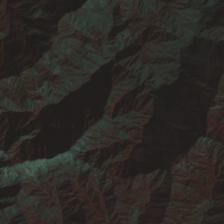landslides: (23, 199, 51, 224), (28, 186, 42, 198), (71, 148, 85, 157), (23, 33, 30, 51), (78, 141, 89, 152), (24, 179, 39, 187)
